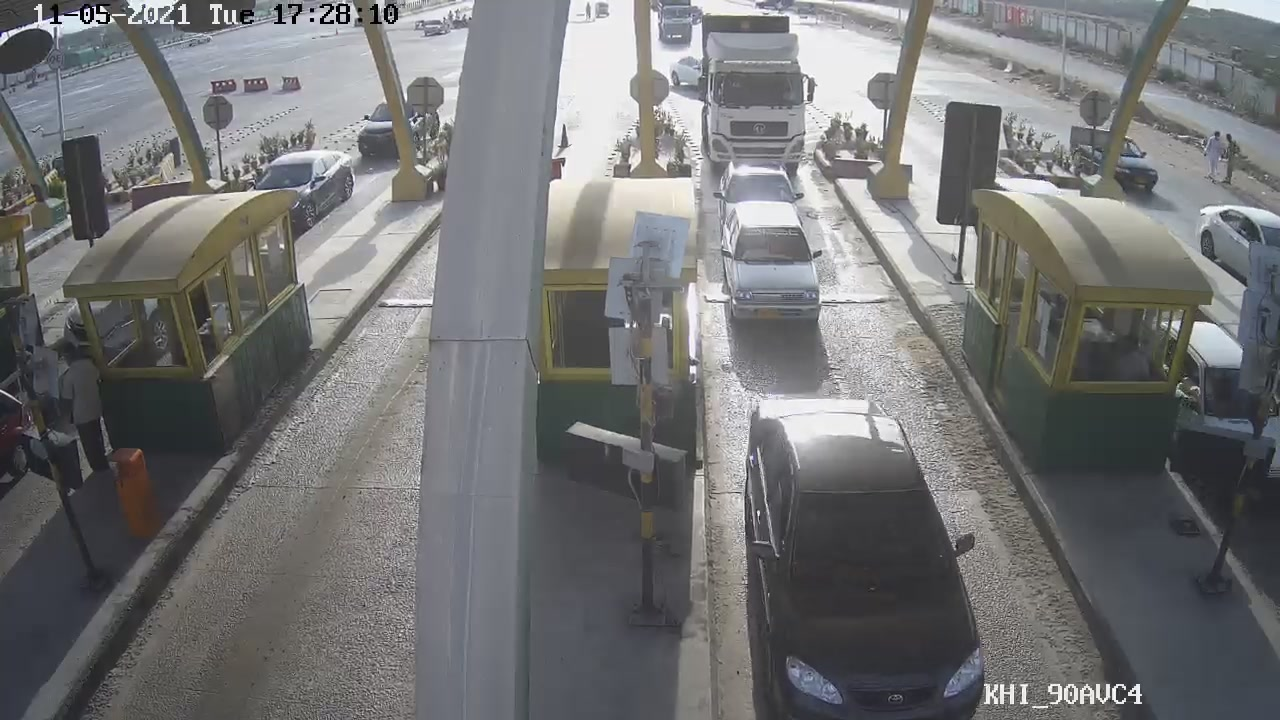F1: (716, 198, 830, 323)
